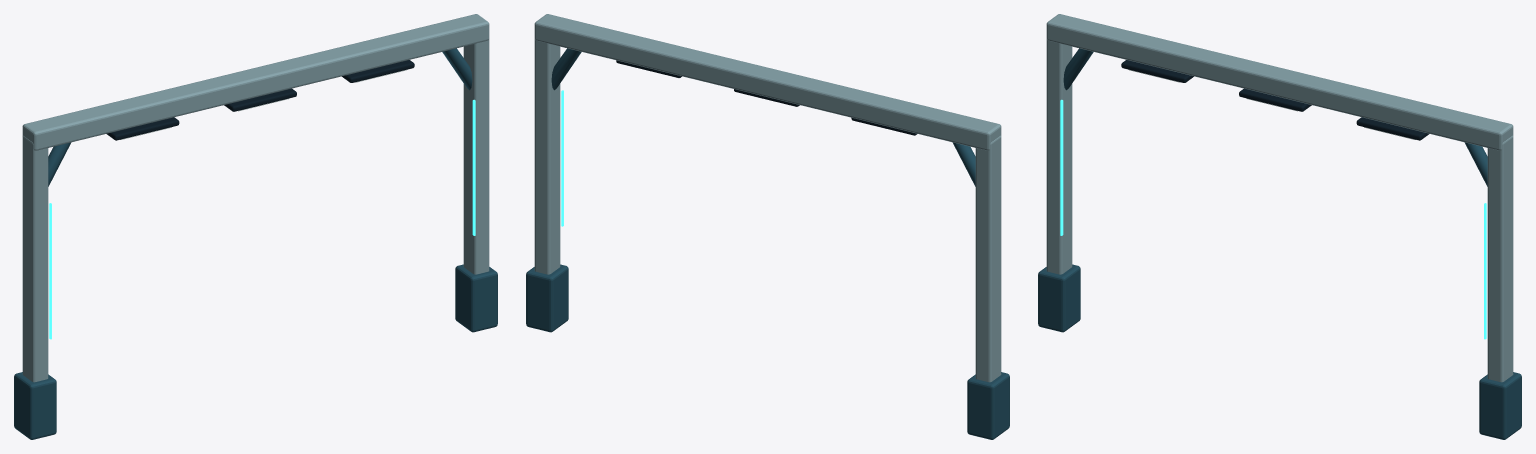
The model's file is SM_CorridorArch.fbx.
3 renders of one model, left to right at view 1: azimuth 30°, elevation 25°; view 2: azimuth 150°, elevation 25°; view 3: azimuth 330°, elevation 25°, orthographic.
Visible parts, largest first — view 1: SM_CorridorArch; view 2: SM_CorridorArch; view 3: SM_CorridorArch.
Part boxes in pixels (bbox=[...]): SM_CorridorArch: bbox=[14, 14, 497, 439]; SM_CorridorArch: bbox=[526, 14, 1009, 439]; SM_CorridorArch: bbox=[1038, 14, 1521, 439].
Bounding box in the file's own units: 796 × 53.5 × 495.
